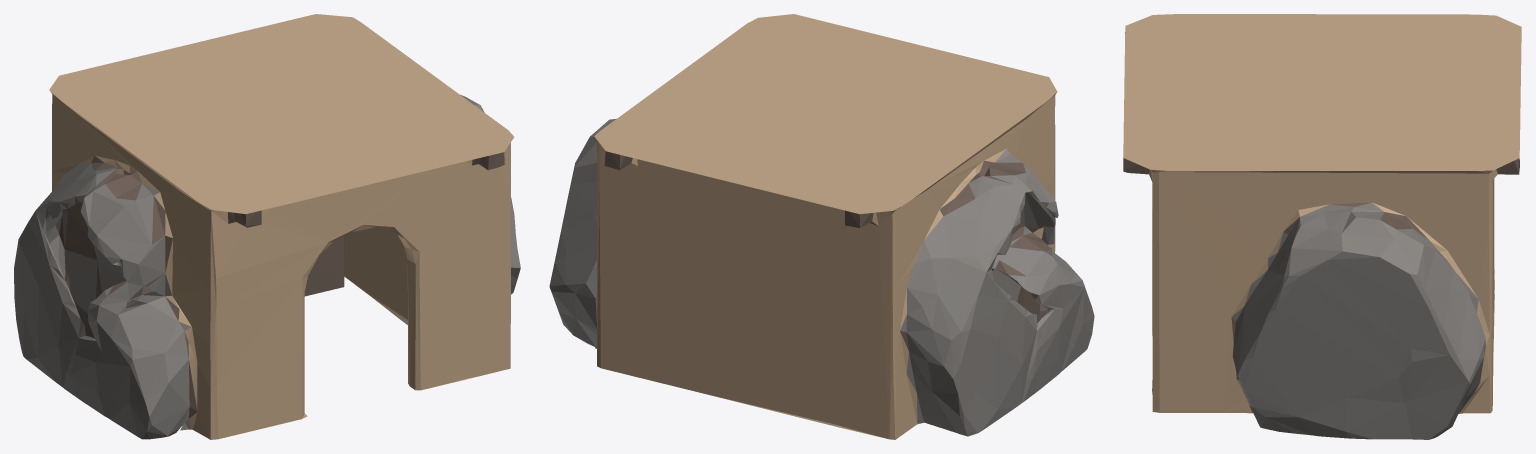
The model's file is etape-1.glb.
3 views of the same model, side by side, from view 1: azimuth 30°, elevation 25°; view 2: azimuth 150°, elevation 25°; view 3: azimuth 270°, elevation 25° (orthographic). The views are drawn at different scales.
Parts seen in each view (by area): view 1: geometry_0; view 2: geometry_0; view 3: geometry_0.
Part boxes in pixels (x1,y1,x2,y2): geometry_0: [14, 14, 520, 439]; geometry_0: [549, 14, 1094, 439]; geometry_0: [1123, 14, 1521, 439].
Size of the model in its own units: 1 by 0.5252 by 0.7792.
